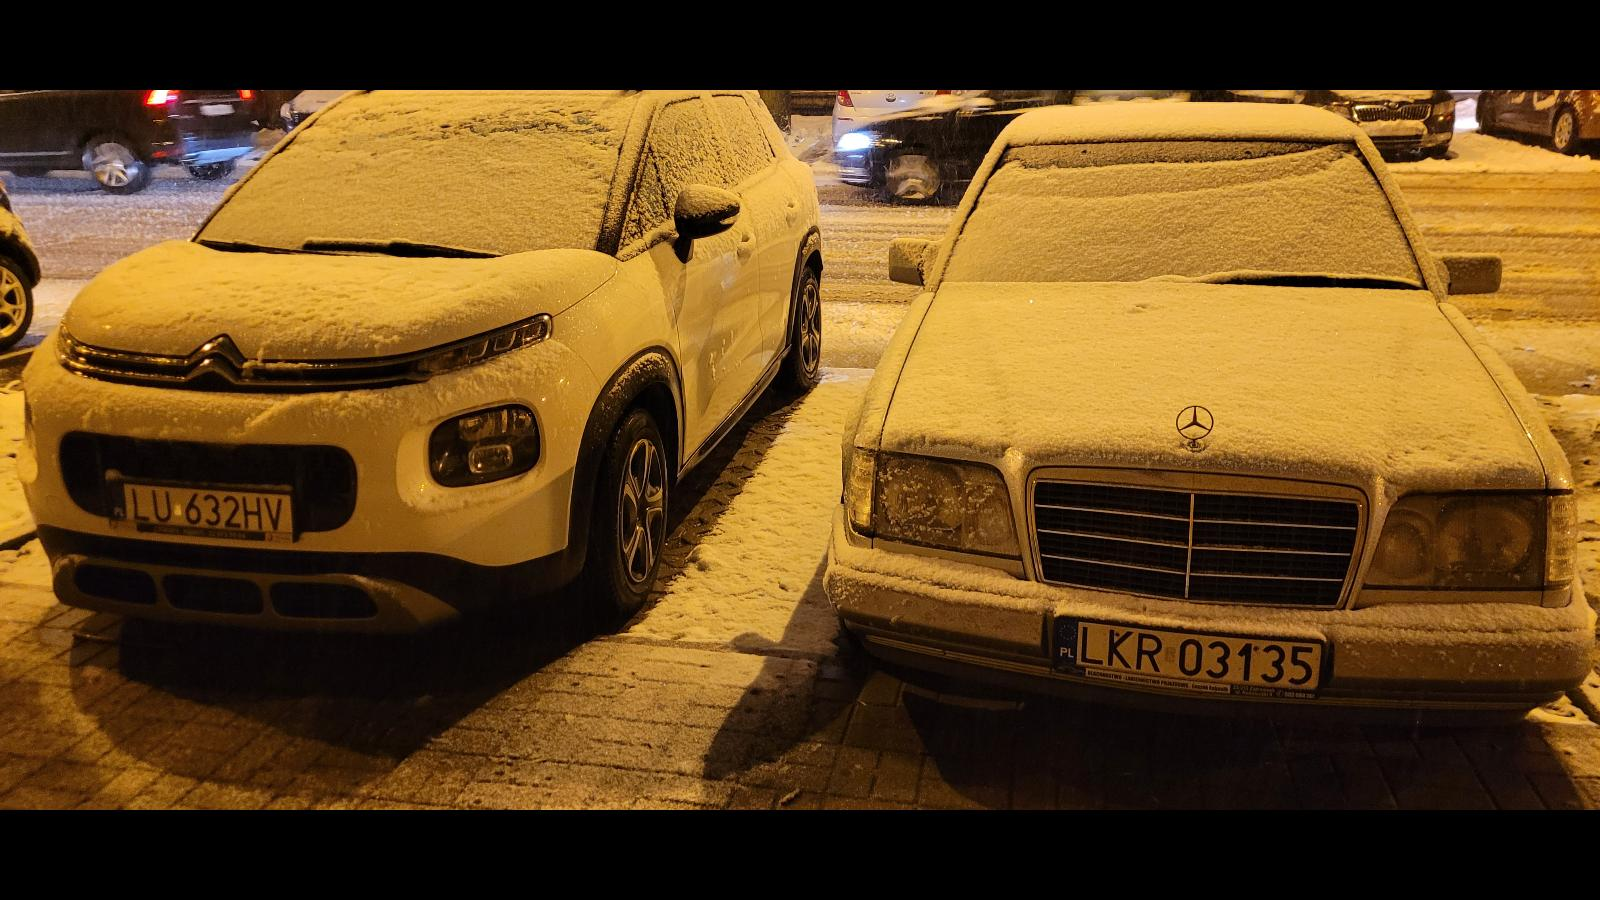plates: (1054, 617, 1324, 699), (106, 480, 294, 542)
